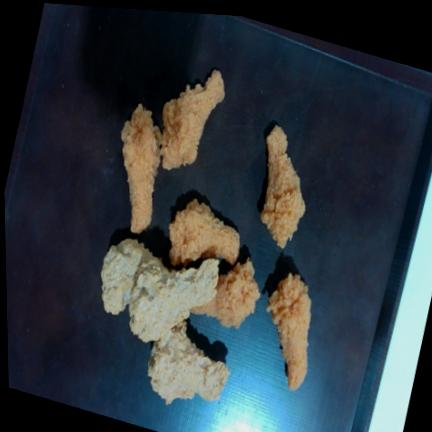chicken: (129, 259, 219, 342), (148, 321, 230, 404), (162, 70, 225, 170), (261, 125, 305, 248), (266, 273, 311, 390), (121, 104, 161, 233), (169, 199, 240, 266)
